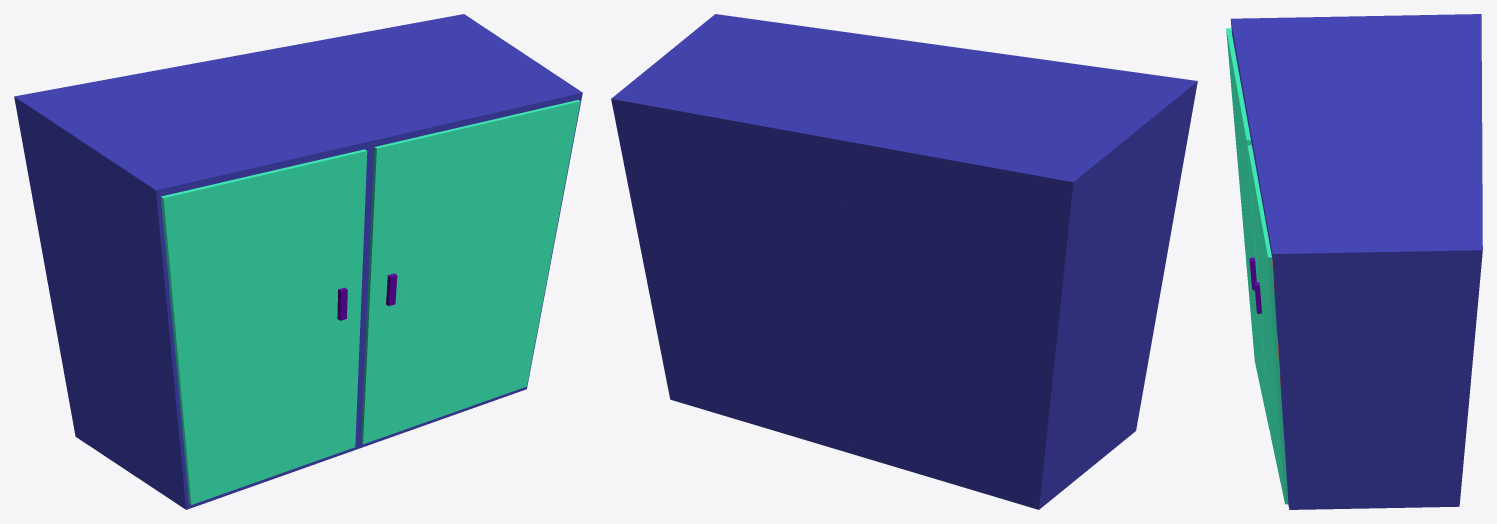
Rendered from House_Kitchen_Cupboard_Wall_Two.FBX.
3 views of the same model, side by side, from view 1: azimuth 30°, elevation 25°; view 2: azimuth 150°, elevation 25°; view 3: azimuth 270°, elevation 25° (orthographic). The views are drawn at different scales.
Visible parts, largest first — view 1: House_Kitchen_Cupboard_Wall_Two_bodyLeft, House_Kitchen_Cupboard_Wall_Two_doorLeft, House_Kitchen_Cupboard_Wall_Two_doorRight, House_Kitchen_Cupboard_Wall_Two_bodyRight; view 2: House_Kitchen_Cupboard_Wall_Two_bodyLeft, House_Kitchen_Cupboard_Wall_Two_bodyRight; view 3: House_Kitchen_Cupboard_Wall_Two_bodyRight, House_Kitchen_Cupboard_Wall_Two_bodyLeft, House_Kitchen_Cupboard_Wall_Two_doorRight, House_Kitchen_Cupboard_Wall_Two_doorLeft.
Part boxes in pixels (x1,y1,x2,y2): House_Kitchen_Cupboard_Wall_Two_bodyLeft: (14, 55, 369, 509); House_Kitchen_Cupboard_Wall_Two_doorLeft: (161, 149, 367, 504); House_Kitchen_Cupboard_Wall_Two_doorRight: (361, 100, 580, 444); House_Kitchen_Cupboard_Wall_Two_bodyRight: (239, 14, 582, 449); House_Kitchen_Cupboard_Wall_Two_bodyLeft: (842, 47, 1197, 509); House_Kitchen_Cupboard_Wall_Two_bodyRight: (611, 14, 956, 454); House_Kitchen_Cupboard_Wall_Two_bodyRight: (1251, 132, 1482, 509); House_Kitchen_Cupboard_Wall_Two_bodyLeft: (1230, 14, 1482, 147); House_Kitchen_Cupboard_Wall_Two_doorRight: (1247, 145, 1288, 504); House_Kitchen_Cupboard_Wall_Two_doorLeft: (1226, 28, 1269, 430).
Size of the model in its own units: 224 by 160 by 114.
